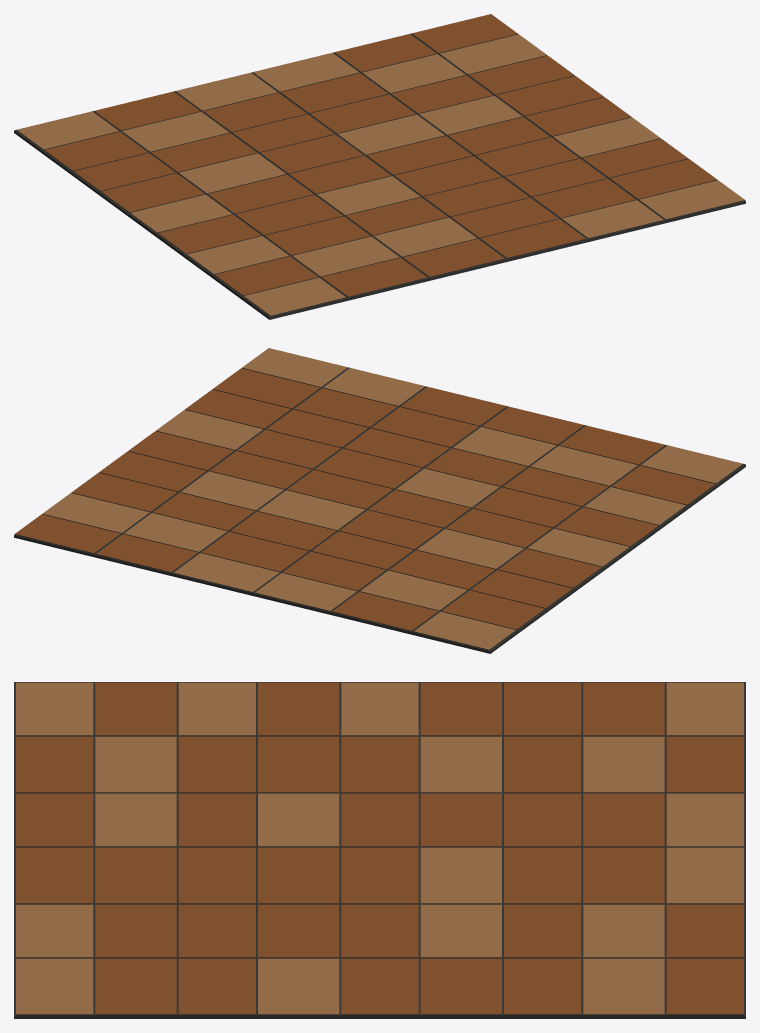
Rendered from Chao.fbx.
3 views of the same model, one above another, from view 1: azimuth 30°, elevation 25°; view 2: azimuth 150°, elevation 25°; view 3: azimuth 270°, elevation 25° (orthographic). The views are drawn at different scales.
Visible parts, largest first — view 1: Cube; view 2: Cube; view 3: Cube.
Boxes of the visible parts, <box> form: Cube: <box>14,14,745,319</box>; Cube: <box>14,348,745,653</box>; Cube: <box>14,682,745,1018</box>.
Bounding box in the file's own units: 4444 × 28.72 × 4127.
